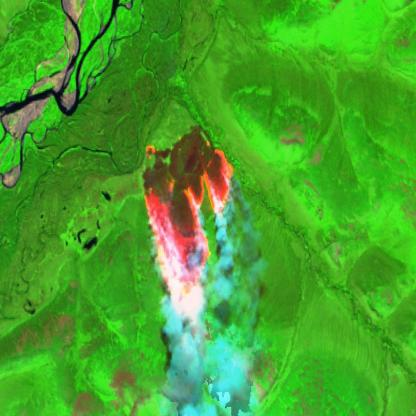fire: (139, 130, 236, 324)
